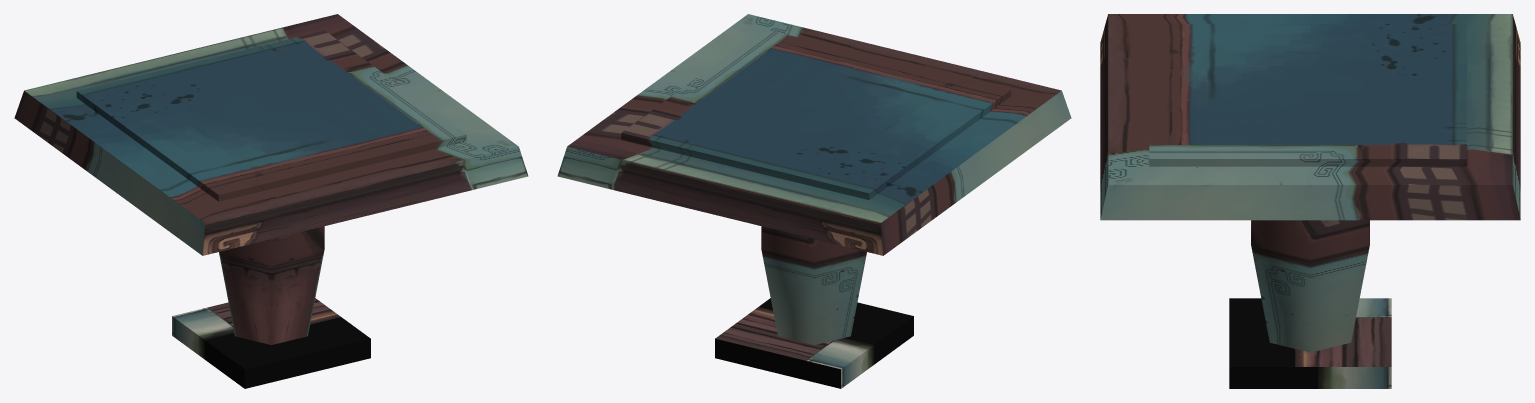
Rendered from SM_Other_09.fbx.
3 renders of one model, left to right at view 1: azimuth 30°, elevation 25°; view 2: azimuth 150°, elevation 25°; view 3: azimuth 270°, elevation 25°, orthographic. The views are drawn at different scales.
Visible parts, largest first — view 1: Other_006_1; view 2: Other_006_1; view 3: Other_006_1.
Boxes of the visible parts, left/top/right/bottom form: Other_006_1: left=14, top=14, right=528, bottom=388; Other_006_1: left=557, top=14, right=1071, bottom=388; Other_006_1: left=1100, top=14, right=1520, bottom=388.
Size of the model in its own units: 257 by 177 by 257.
